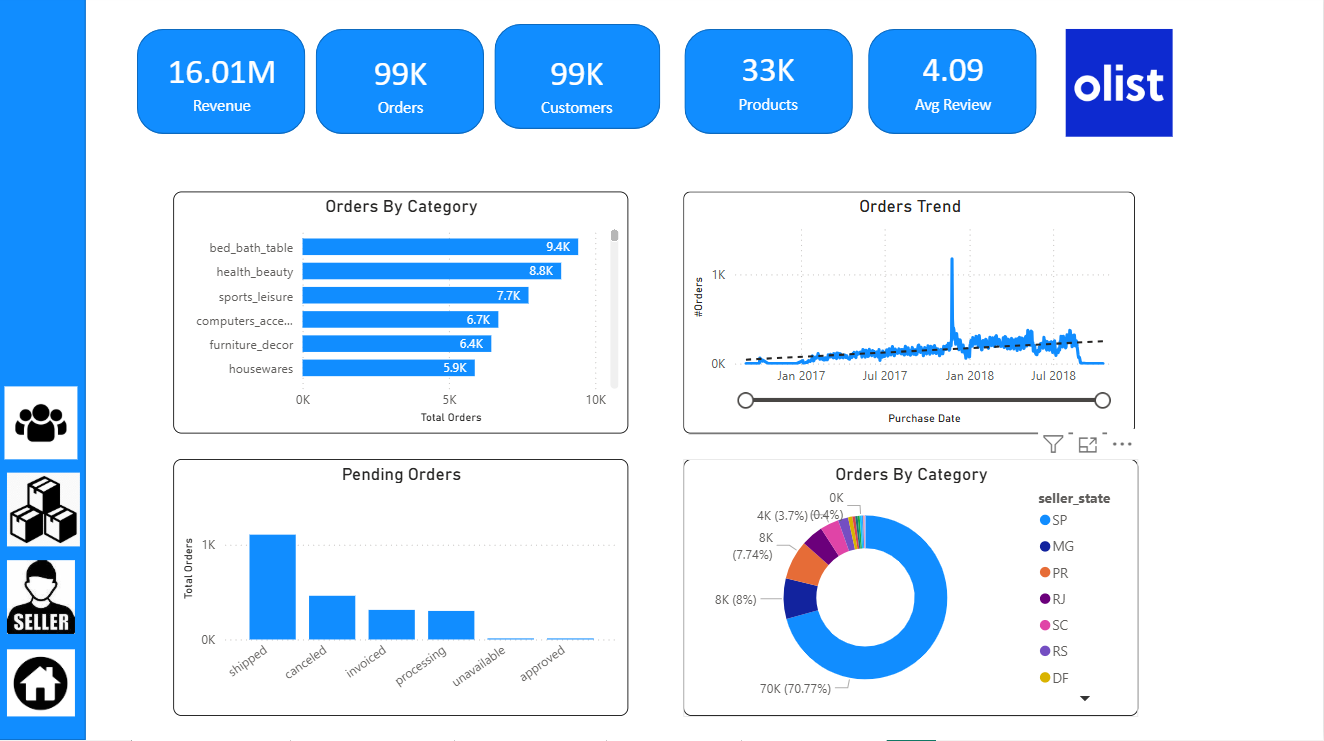

The dashboard page shown, as its layout file describes it:
{"tool":"powerbi","page":{"name":"Exec Dashboard","canvas":[1280,720],"ordinal":0},"visuals":[{"type":"shape","box":[135.5,34.2,162.5,101.2],"z":0},{"type":"shape","box":[308,33.9,162.5,101.2],"z":1000},{"type":"shape","box":[841.5,34.2,162.5,101.2],"z":2000},{"type":"shape","box":[663,33.9,162.5,101.2],"z":3000},{"type":"shape","box":[480,28.8,160,101.2],"z":4000,"group":"g1"},{"type":"image","box":[1023.8,28.8,117.5,113.8],"z":4000},{"type":"shape","box":[0,0,85.7,720.2],"z":5000},{"type":"card","fields":{"Values":["Measures Table.Total Sales(Payment Value)"]},"box":[147.9,28.7,137.5,107.4],"z":6000},{"type":"card","fields":{"Values":["Measures Table.Total Orders"]},"box":[320.4,31.1,137.5,107.4],"z":7000},{"type":"card","fields":{"Values":["Measures Table.Total Products"]},"box":[675.1,27.5,137.5,107.4],"z":8000},{"type":"card","fields":{"Values":["Measures Table.Total Customers"]},"box":[491.2,31.3,137.5,107.5],"z":9000,"group":"g1"},{"type":"card","fields":{"Values":["Measures Table.Avg Review"]},"box":[853.7,27.5,137.5,107.4],"z":9000},{"type":"lineChart","title":"Orders Trend","fields":{"Y":["CountNonNull(olist_orders_dataset.order_id)"],"Category":["olist_orders_dataset.order_purchase_timestamp.Variation.Date Hierarchy.Year","olist_orders_dataset.order_purchase_timestamp.Variation.Date Hierarchy.Quarter","olist_orders_dataset.order_purchase_timestamp.Variation.Date Hierarchy.Month","olist_orders_dataset.order_purchase_timestamp.Variation.Date Hierarchy.Day"]},"box":[662.8,190.7,436.4,233.3],"z":10000},{"type":"clusteredBarChart","title":"Orders By Category","fields":{"Category":["product_category_name_translation.product_category_name_english"],"Y":["Measures Table.Total Orders"]},"box":[170.2,190.7,439.1,233.3],"z":11000},{"type":"clusteredColumnChart","title":"Pending Orders","fields":{"Y":["Measures Table.Total Orders"],"Category":["olist_orders_dataset.order_status"]},"box":[170.2,448.7,439.1,248.4],"z":12000},{"type":"donutChart","title":"Orders By Category","fields":{"Y":["Measures Table.Total Orders"],"Category":["olist_sellers_dataset.seller_state"]},"box":[662.8,448.7,439.1,248.4],"z":13000},{"type":"image","box":[5,608.8,75,111.2],"z":14000},{"type":"image","box":[5,530,75,105],"z":15000},{"type":"image","box":[5,440,80,113.8],"z":16000},{"type":"image","box":[2.5,360,80,108.8],"z":17000},{"type":"group","id":"g1","title":"Group 1","box":[480,28.8,160,110],"z":18000}]}

Visuals, with their boxes in screenshot pixels (x1, y1, x2, y2), scaled from the page's 1280x720 canvas onto the 1324x741 screenshot:
shape: <box>140,35,308,139</box>
shape: <box>319,35,487,139</box>
shape: <box>870,35,1039,139</box>
shape: <box>686,35,854,139</box>
shape: <box>496,30,662,134</box>
image: <box>1059,30,1181,147</box>
shape: <box>0,0,89,740</box>
card - Measures Table.Total Sales(Payment Value): <box>153,30,295,140</box>
card - Measures Table.Total Orders: <box>331,32,474,143</box>
card - Measures Table.Total Products: <box>698,28,841,139</box>
card - Measures Table.Total Customers: <box>508,32,650,143</box>
card - Measures Table.Avg Review: <box>883,28,1025,139</box>
"Orders Trend" lineChart: <box>686,196,1137,436</box>
"Orders By Category" clusteredBarChart: <box>176,196,630,436</box>
"Pending Orders" clusteredColumnChart: <box>176,462,630,717</box>
"Orders By Category" donutChart: <box>686,462,1140,717</box>
image: <box>5,627,83,740</box>
image: <box>5,545,83,654</box>
image: <box>5,453,88,570</box>
image: <box>3,370,85,482</box>
"Group 1" group: <box>496,30,662,143</box>
